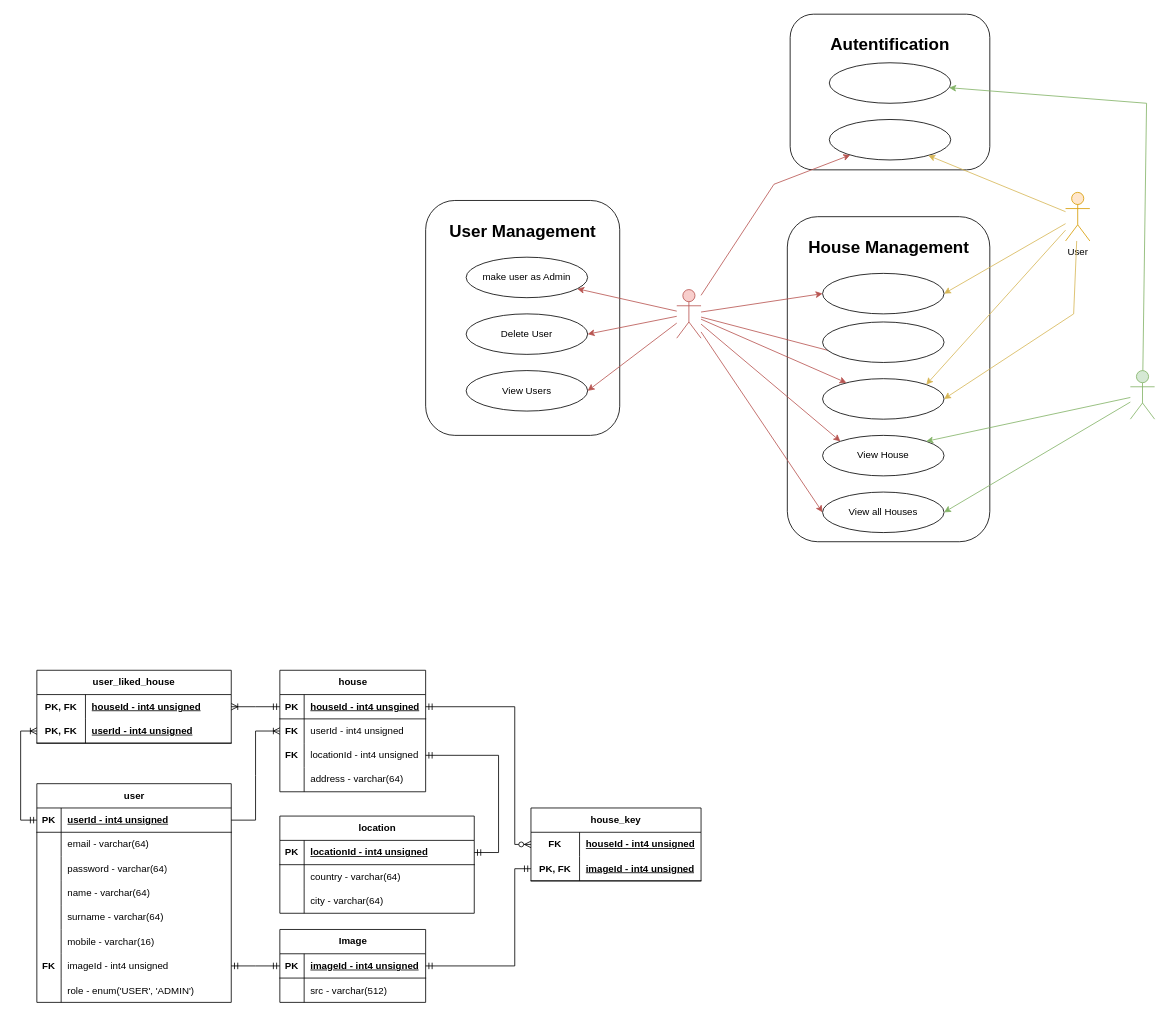
The diagram is 1170 pixels wide and 1017 high, and some of its shapes have lost their labels. Each missing label, with the centre of its shape:
"Admin" belongs at (688,313).
"Create House" belongs at (883,293).
"Delete House" belongs at (883,398).
"Login" belongs at (889,139).
"Register" belongs at (889,82).
"Update House" belongs at (883,341).
"Visitor" belongs at (1142,394).
